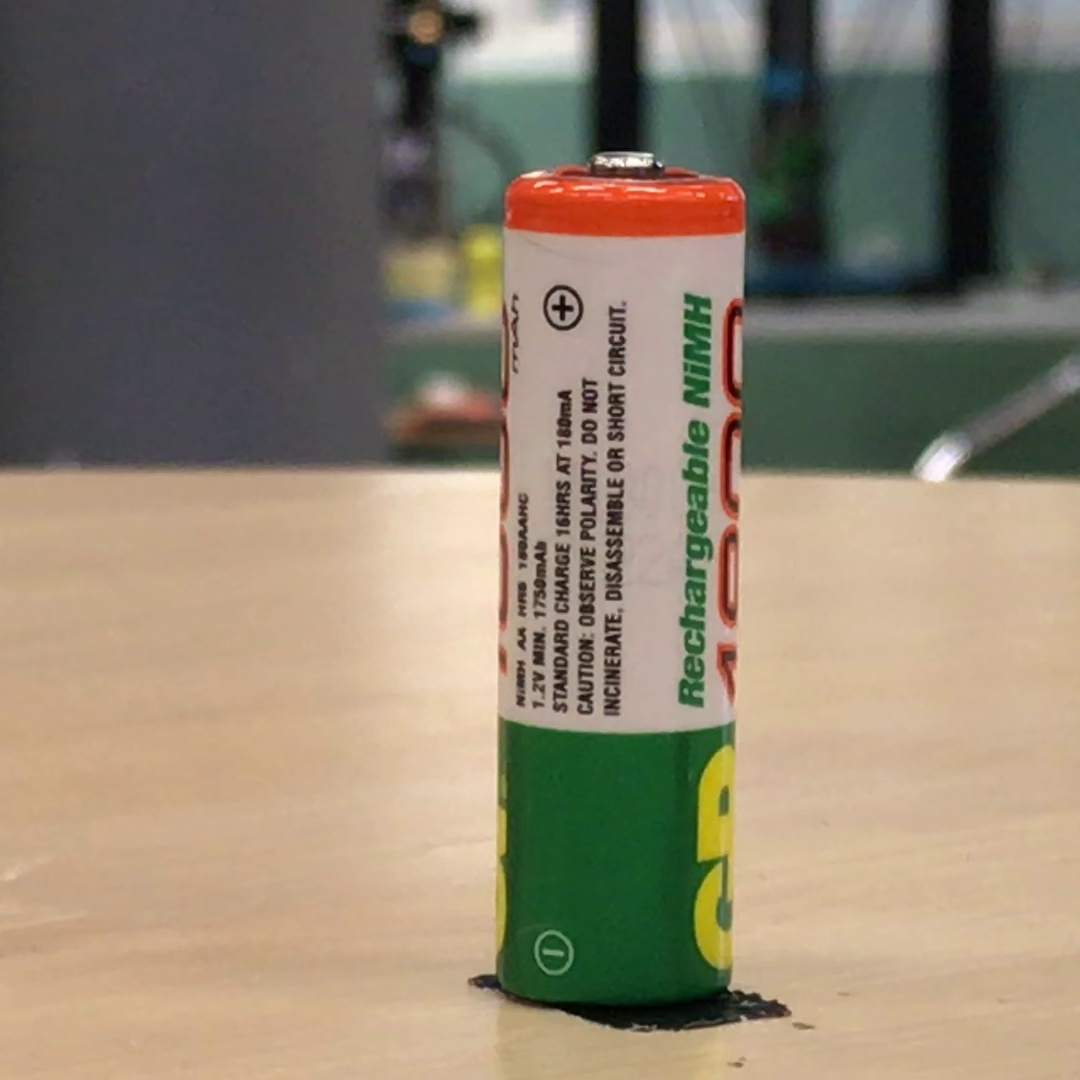keyword: (672, 282, 722, 418), (522, 662, 554, 718)
